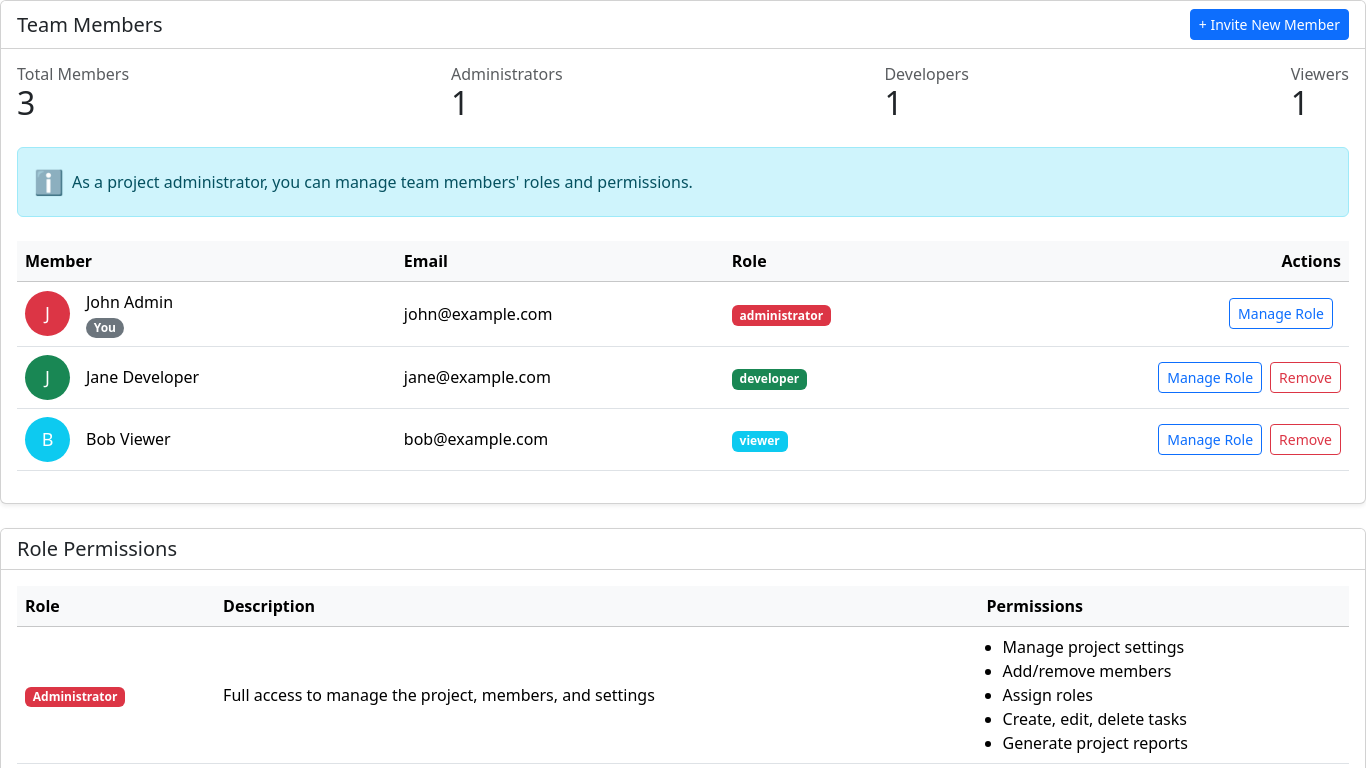
Test case: opens remove member modal when remove is clicked
The width and height of the screenshot is (1366, 768).
Click the button "Remove" in the row of "Jane Developer": (1306, 378) 1270,362 -> 1341,393
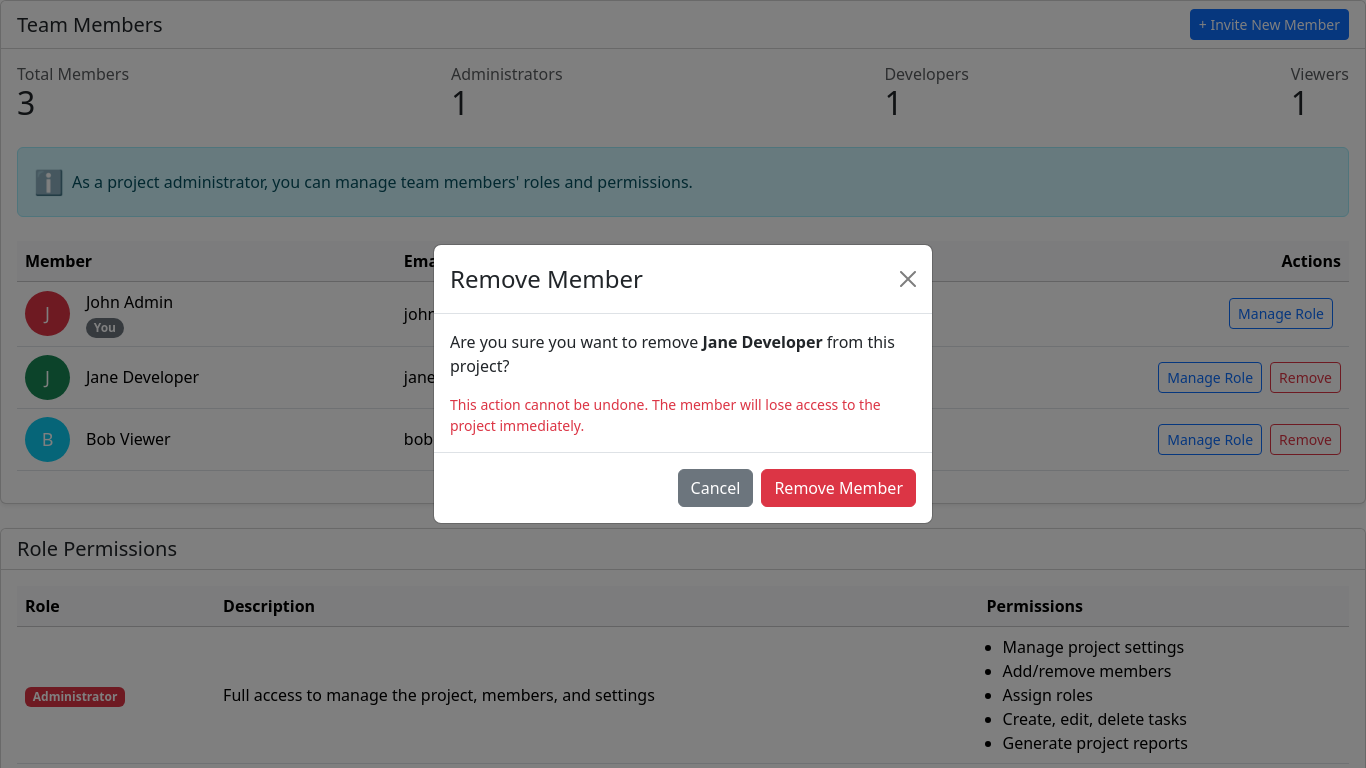
Expected: the text "Remove Member" is shown 2 times, 450,261 -> 643,297; 761,469 -> 916,507
Expected: the text "Are you sure you want to remove" is shown, 450,331 -> 702,353
